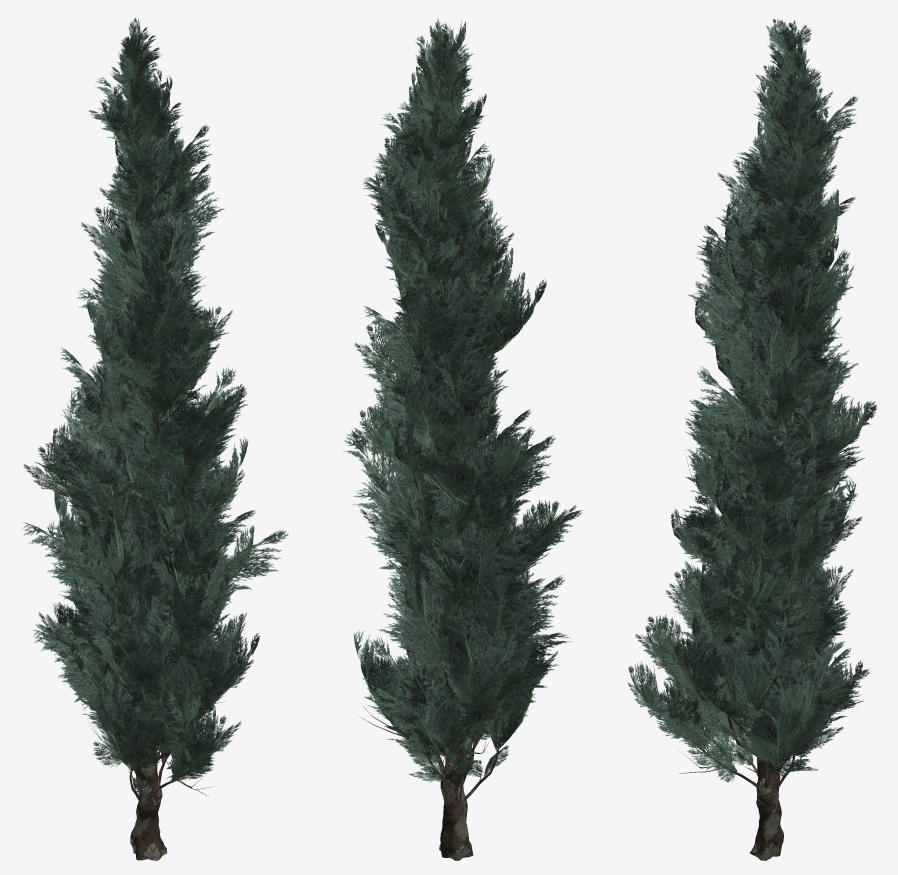
Rendered from cypress.glb.
The picture shows the model from 3 angles, left to right: view 1: azimuth 30°, elevation 25°; view 2: azimuth 150°, elevation 25°; view 3: azimuth 270°, elevation 25°; orthographic projection. The views are drawn at different scales.
Parts seen in each view (by area): view 1: Cypress_V2_test; view 2: Cypress_V2_test; view 3: Cypress_V2_test.
Boxes of the visible parts, left/top/right/bottom form: Cypress_V2_test: left=22, top=18, right=288, bottom=860; Cypress_V2_test: left=343, top=19, right=582, bottom=860; Cypress_V2_test: left=628, top=18, right=876, bottom=860.
Bounding box in the file's own units: 2.03 × 6.5 × 1.83.
Materials: 3 (2 with a texture image).
